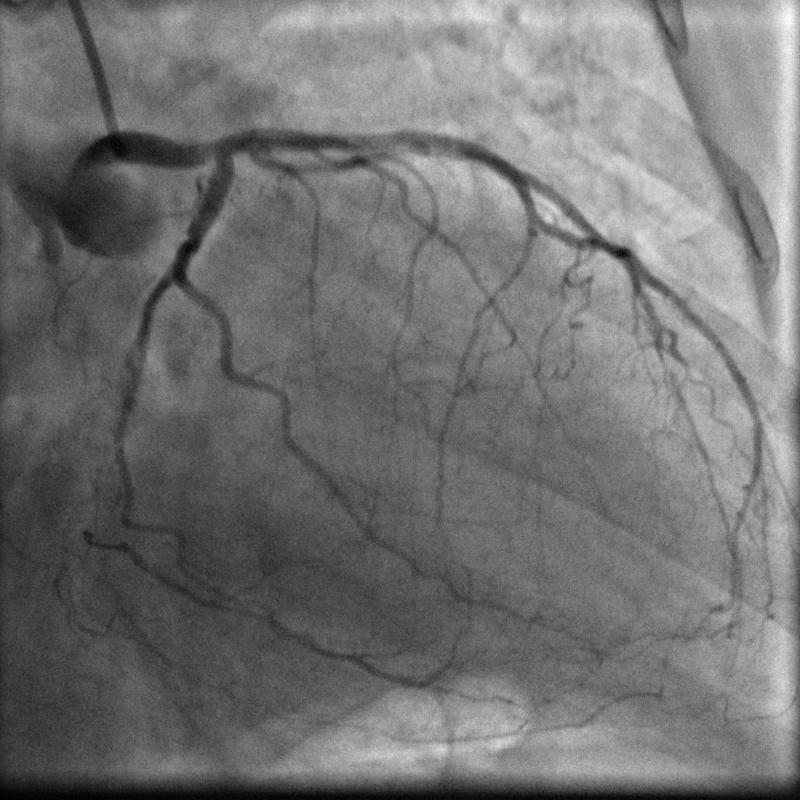Stenosis: (383, 128, 447, 155)
